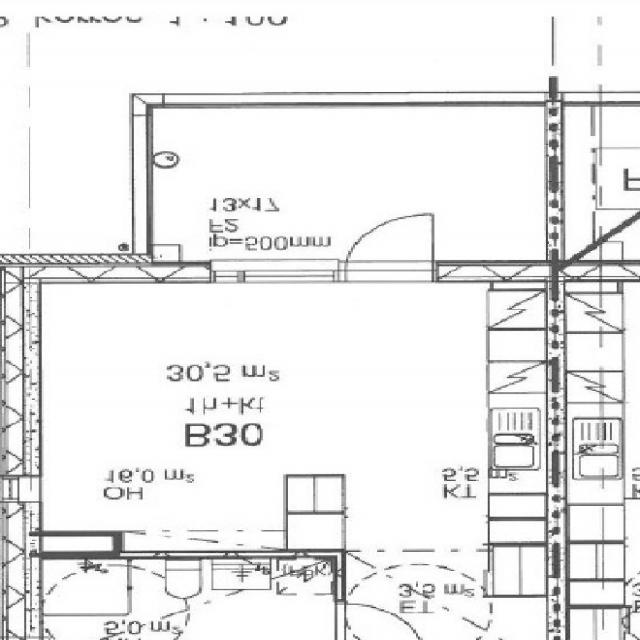door: (349, 204, 434, 282), (336, 604, 422, 640)
